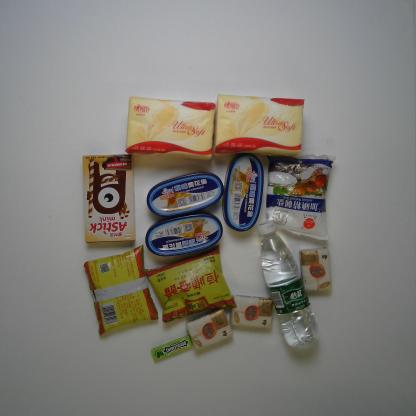Canned Food: (146, 171, 225, 218), (144, 212, 224, 257), (222, 152, 264, 232)
Dessert: (82, 154, 136, 243)
Drink: (258, 221, 318, 348)
Gum: (150, 334, 193, 362)
Seasoner: (143, 245, 238, 323), (82, 245, 159, 335), (265, 154, 337, 240)
Tissue: (125, 95, 217, 161), (213, 94, 306, 159), (186, 309, 234, 351), (228, 294, 274, 330), (300, 247, 332, 294)
